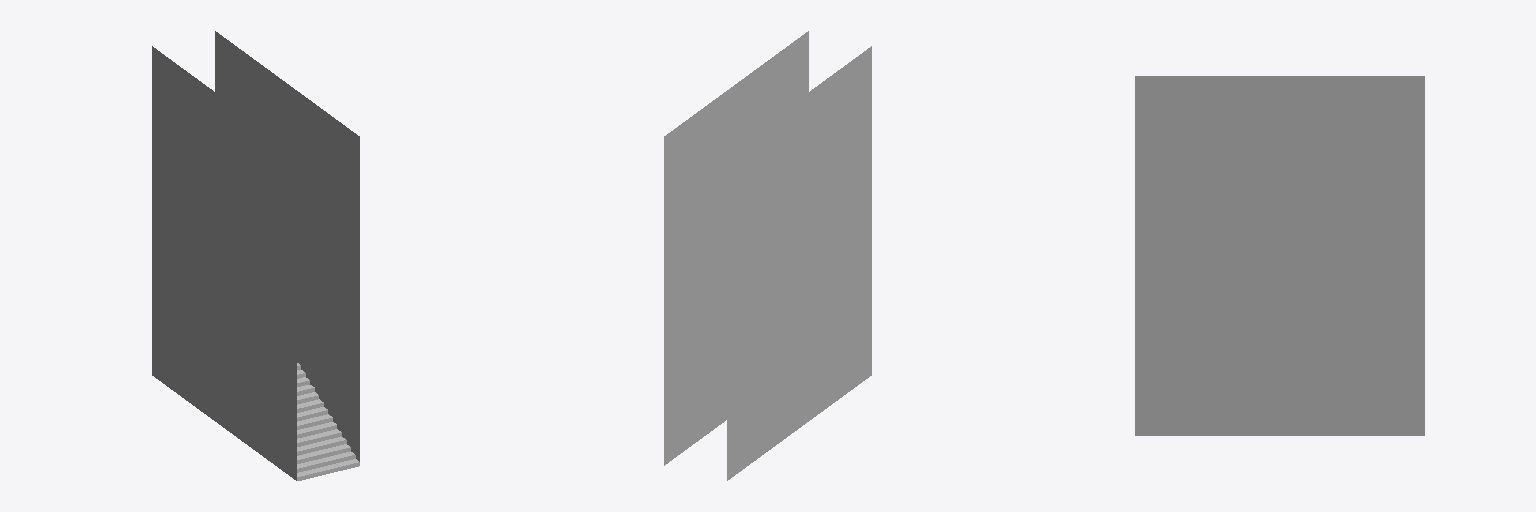
Rendered from stairs.obj.
The picture shows the model from 3 angles: view 1: azimuth 30°, elevation 25°; view 2: azimuth 150°, elevation 25°; view 3: azimuth 270°, elevation 25°; orthographic projection.
Parts seen in each view (by area): view 1: Cube; view 2: Cube; view 3: Cube.
Boxes of the visible parts, x1,y1,x2,y2 form: Cube: [152, 31, 359, 480]; Cube: [664, 31, 871, 480]; Cube: [1135, 76, 1424, 435].
Size of the model in its own units: 2 by 10 by 8.